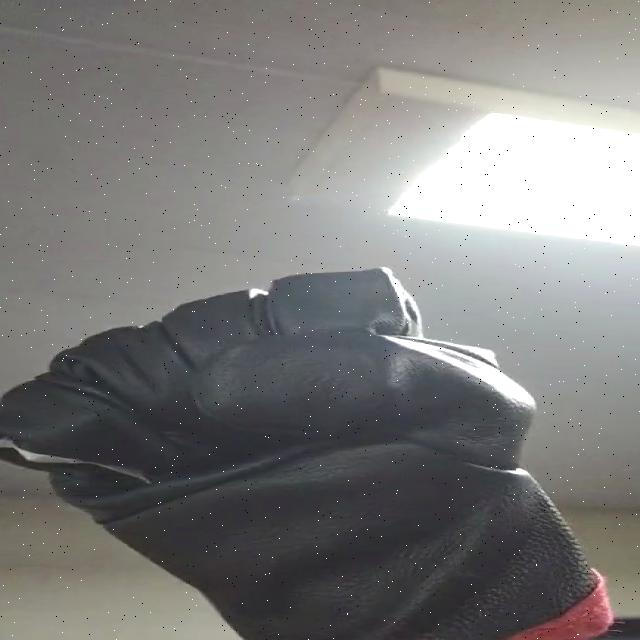Gloves: (0, 269, 640, 640)
